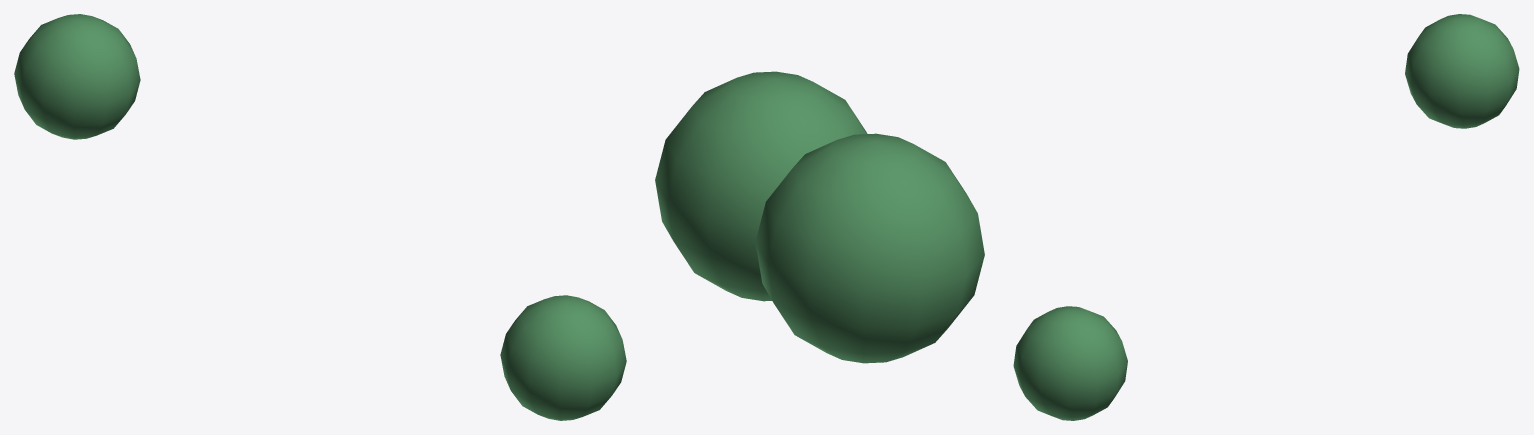
The picture shows the model from 3 angles, left to right: view 1: azimuth 30°, elevation 25°; view 2: azimuth 150°, elevation 25°; view 3: azimuth 270°, elevation 25°; orthographic projection. The views are drawn at different scales.
Parts seen in each view (by area): view 1: 右侧腹壁下淋巴结; view 2: 右侧腹壁下淋巴结; view 3: 右侧腹壁下淋巴结.
Boxes of the visible parts, x1,y1,x2,y2 form: 右侧腹壁下淋巴结: (14,14,626,420); 右侧腹壁下淋巴结: (655,71,984,363); 右侧腹壁下淋巴结: (1013,14,1519,420).
Size of the model in its own units: 0.0133 by 0.0102 by 0.0169.
